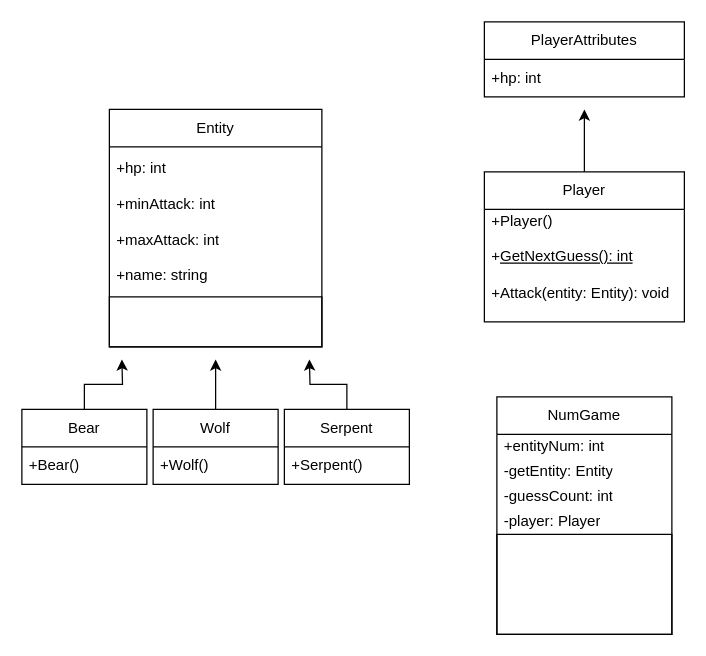
Image size: 706x656. Some labels were removed from this diagram. The centre of each missing label's shape, as x and y in pixels:
"+Attack(player: Player): void" belongs at (x=215, y=321).
"+ChosenEntity(): void +StartGuessing(): bool +Fight(): void" belongs at (x=584, y=583).
